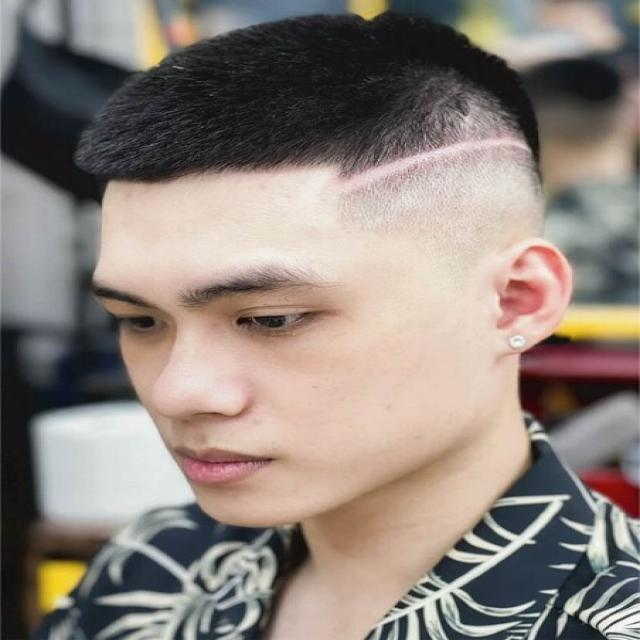Nonhelmet: (61, 2, 588, 532)
